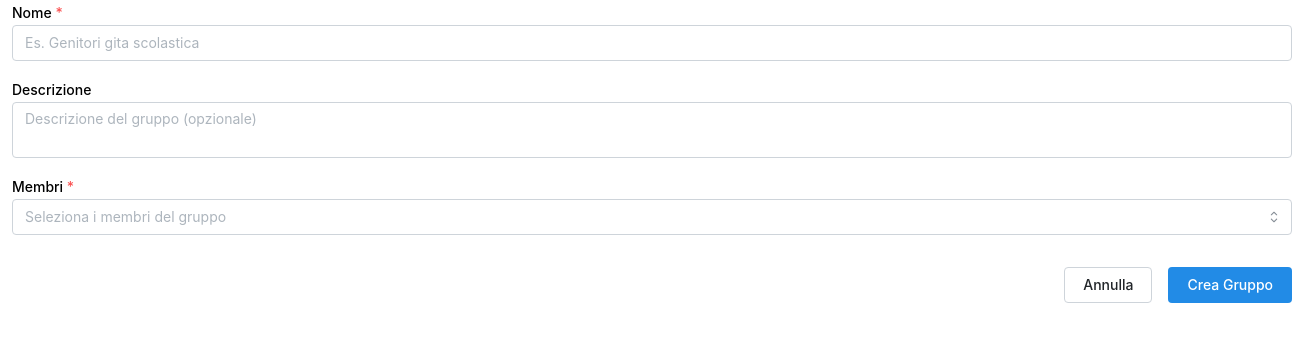
Scenario: CommunicationGroupForm › valida nome (min 2) e membri (min 1) e non chiama fetch
What coordinates should you click on to do the following:
click the button "Crea Gruppo"
I would click on:
 (1230, 285)
Its box is [1168, 267, 1292, 303].
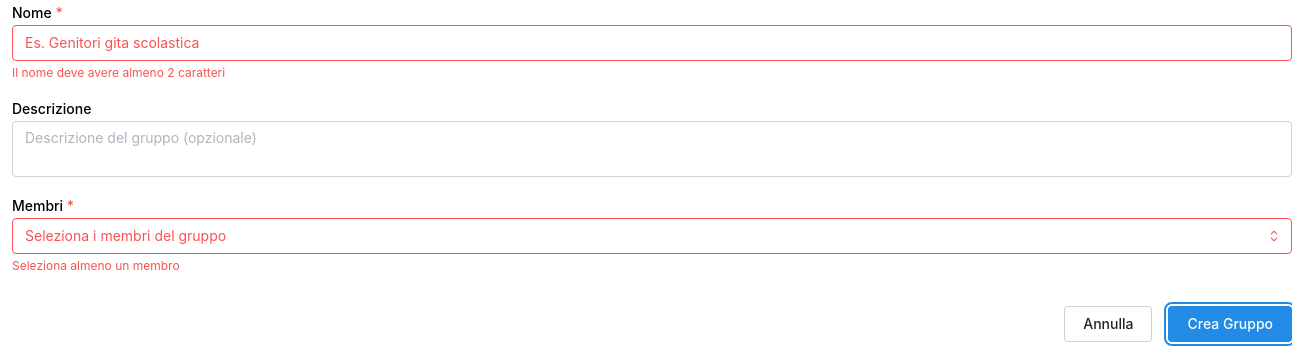
Check: the text "Il nome deve avere almeno 2 caratteri" is shown, box [12, 65, 225, 80]
Check: the text "Seleziona almeno un membro" is shown, box [12, 258, 180, 273]
